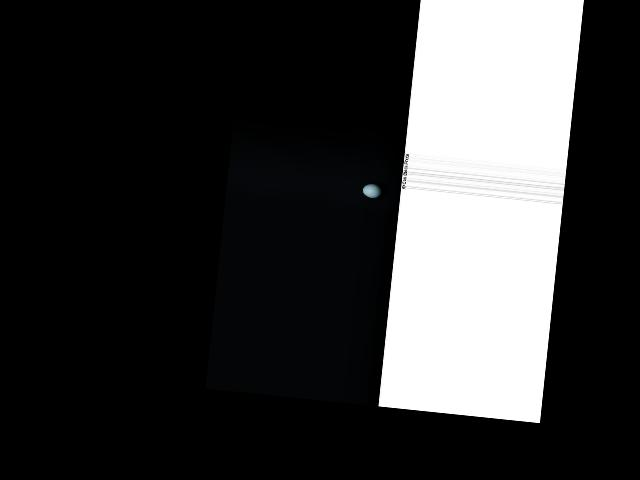egg: (362, 182, 382, 199)
